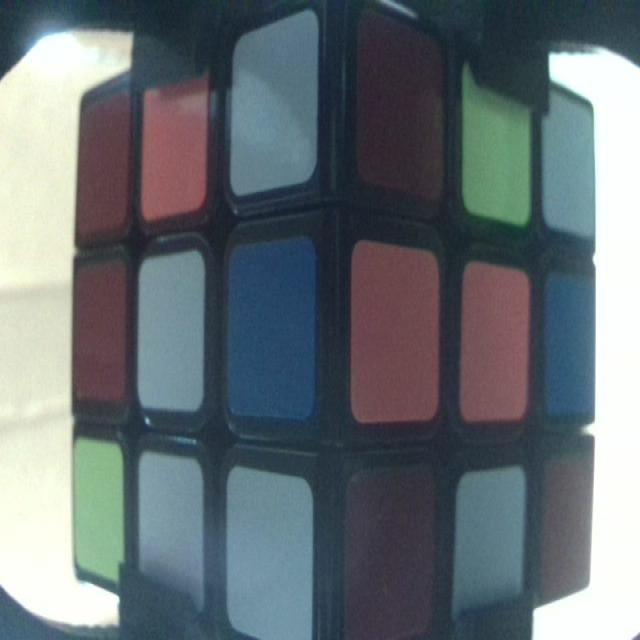b: (230, 245, 312, 420), (546, 276, 593, 419)
o: (353, 245, 437, 418), (465, 264, 527, 417), (144, 86, 205, 206)
r: (363, 20, 444, 200), (350, 482, 428, 640), (77, 271, 126, 392), (542, 463, 588, 585), (82, 102, 128, 222)
w: (227, 468, 311, 635), (234, 32, 315, 187), (139, 455, 207, 608), (139, 260, 202, 405), (456, 477, 522, 611), (543, 101, 592, 236)
y: (462, 59, 529, 217), (72, 441, 123, 580)
